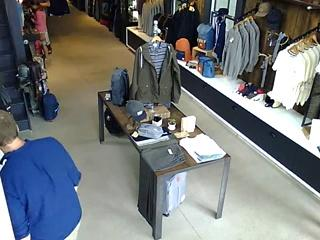Normal: (0, 110, 82, 240), (31, 2, 52, 56)
